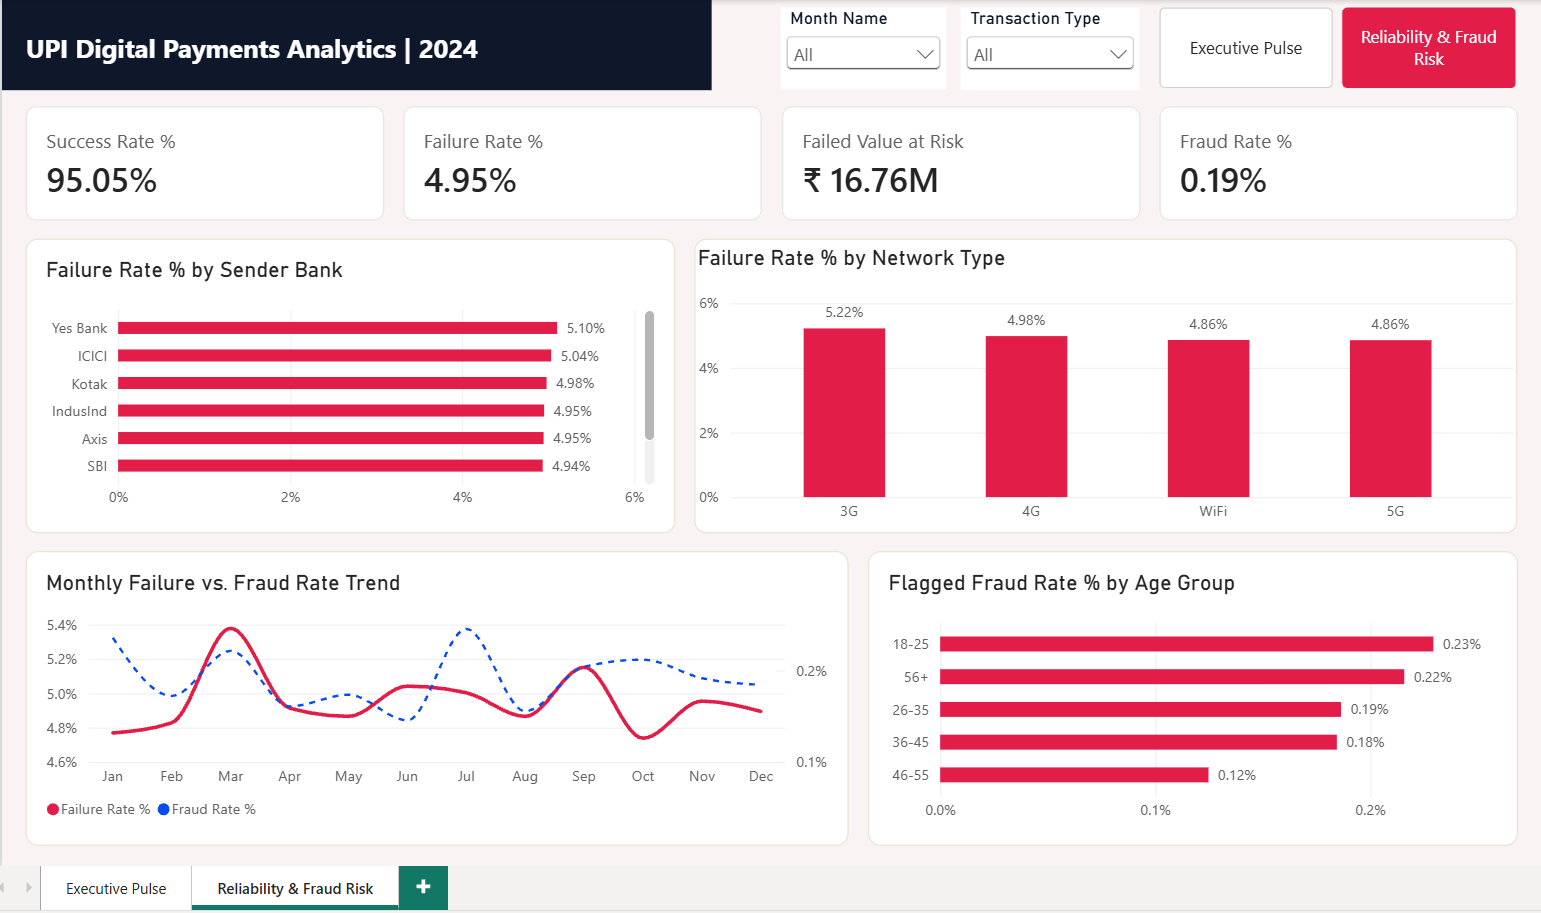

This screenshot's page, from the dashboard's own definition file:
{"tool":"powerbi","page":{"name":"Reliability & Fraud Risk","canvas":[1280,720],"ordinal":1},"visuals":[{"type":"shape","box":[0,0,590,75],"z":0},{"type":"textbox","box":[19.7,24.9,500,50],"z":2500},{"type":"slicer","fields":{"Values":["Calendar.Month Name"]},"box":[647.8,6.7,137.8,67.8],"z":3250},{"type":"cardVisual","fields":{"Data":["_Measures.Success Rate %"]},"box":[20,88,298,95],"z":4000},{"type":"slicer","fields":{"Values":["upi_transactions_2024.transaction type"]},"box":[796.7,6.7,148.9,68.9],"z":4500},{"type":"cardVisual","fields":{"Data":["_Measures.Failure Rate %"]},"box":[334,88,298,95],"z":5000},{"type":"cardVisual","fields":{"Data":["_Measures.Failed Value at Risk"]},"box":[648,88,298,95],"z":6000},{"type":"cardVisual","fields":{"Data":["_Measures.Fraud Rate %"]},"box":[962,88,298,95],"z":7000},{"type":"clusteredBarChart","title":"Failure Rate % by Sender Bank","fields":{"Category":["upi_transactions_2024.sender_bank"],"Y":["_Measures.Failure Rate %"]},"box":[20,198,540,245],"z":8000},{"type":"clusteredColumnChart","title":"Failure Rate % by Network Type","fields":{"Category":["upi_transactions_2024.network_type"],"Y":["_Measures.Failure Rate %"]},"box":[576,198,684,245],"z":9000},{"type":"lineChart","title":"Monthly Failure vs. Fraud Rate Trend","fields":{"Category":["Calendar.Month Name"],"Y":["_Measures.Failure Rate %"],"Y2":["_Measures.Fraud Rate %"]},"box":[20,458,684,245],"z":10000},{"type":"clusteredBarChart","title":"Flagged Fraud Rate % by Age Group","fields":{"Category":["upi_transactions_2024.sender_age_group"],"Y":["_Measures.Fraud Rate %"]},"box":[720,458,540,245],"z":11000},{"type":"pageNavigator","box":[962.2,6.7,297.8,67.8],"z":11001}]}

Visuals, with their boxes on the page's 1280x720 design canvas (x1, y1, x2, y2). These are canvas units, not pixel positions in the 1541x913 screenshot, which may show the page scaled, cropped or inside an application window:
shape: {"left": 0, "top": 0, "right": 590, "bottom": 75}
textbox: {"left": 20, "top": 25, "right": 520, "bottom": 75}
slicer - Calendar.Month Name: {"left": 648, "top": 7, "right": 786, "bottom": 74}
cardVisual - _Measures.Success Rate %: {"left": 20, "top": 88, "right": 318, "bottom": 183}
slicer - upi_transactions_2024.transaction type: {"left": 797, "top": 7, "right": 946, "bottom": 76}
cardVisual - _Measures.Failure Rate %: {"left": 334, "top": 88, "right": 632, "bottom": 183}
cardVisual - _Measures.Failed Value at Risk: {"left": 648, "top": 88, "right": 946, "bottom": 183}
cardVisual - _Measures.Fraud Rate %: {"left": 962, "top": 88, "right": 1260, "bottom": 183}
"Failure Rate % by Sender Bank" clusteredBarChart: {"left": 20, "top": 198, "right": 560, "bottom": 443}
"Failure Rate % by Network Type" clusteredColumnChart: {"left": 576, "top": 198, "right": 1260, "bottom": 443}
"Monthly Failure vs. Fraud Rate Trend" lineChart: {"left": 20, "top": 458, "right": 704, "bottom": 703}
"Flagged Fraud Rate % by Age Group" clusteredBarChart: {"left": 720, "top": 458, "right": 1260, "bottom": 703}
pageNavigator: {"left": 962, "top": 7, "right": 1260, "bottom": 74}
